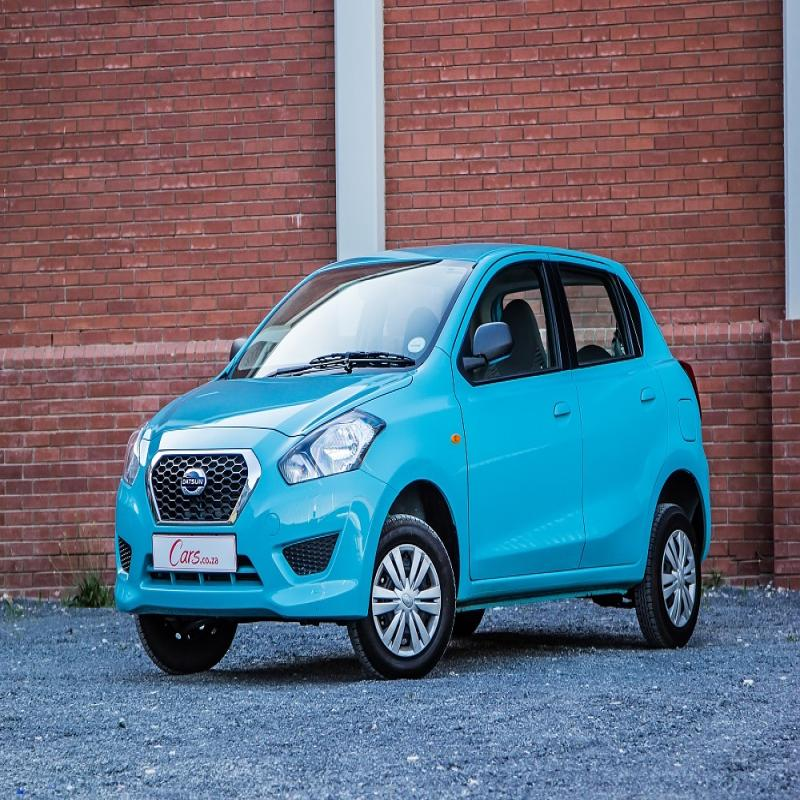car: (84, 212, 740, 672)
